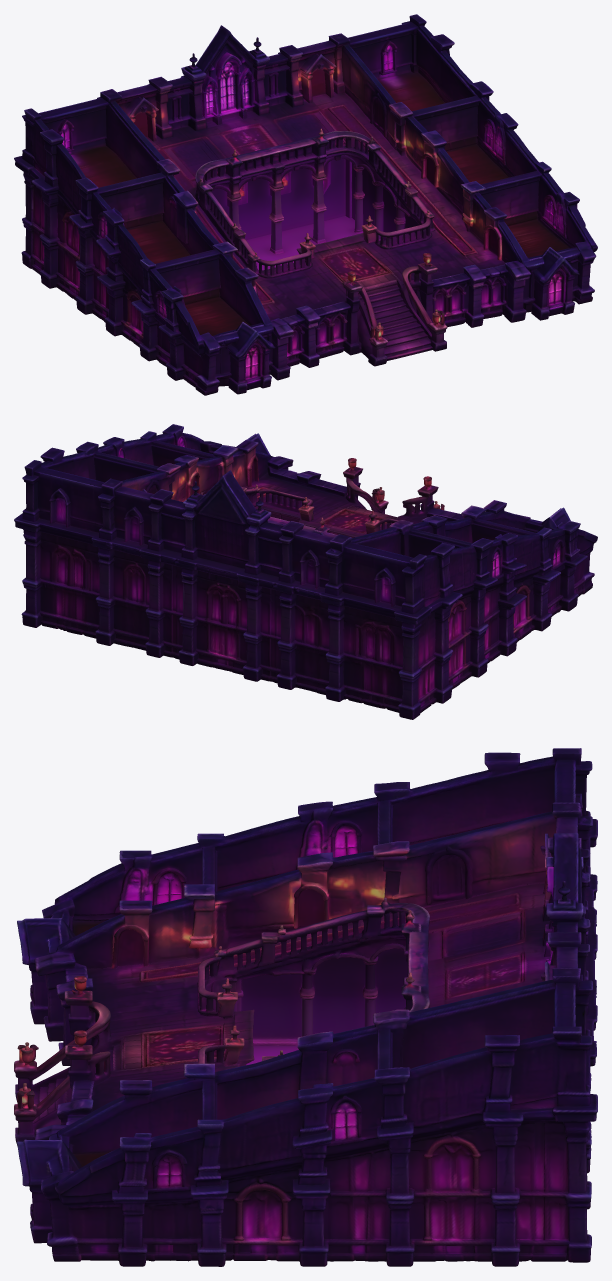
The model's file is second-floor.glb.
The picture shows the model from 3 angles, top to bottom: view 1: azimuth 30°, elevation 25°; view 2: azimuth 150°, elevation 25°; view 3: azimuth 270°, elevation 25°; orthographic projection. The views are drawn at different scales.
Visible parts, largest first — view 1: model; view 2: model; view 3: model.
Boxes of the visible parts, x1,y1,x2,y2 form: model: [14, 14, 597, 395]; model: [14, 424, 597, 719]; model: [14, 748, 597, 1266].
Bounding box in the file's own units: 1.9 × 0.8425 × 1.55.
1 material, 1 textured.
